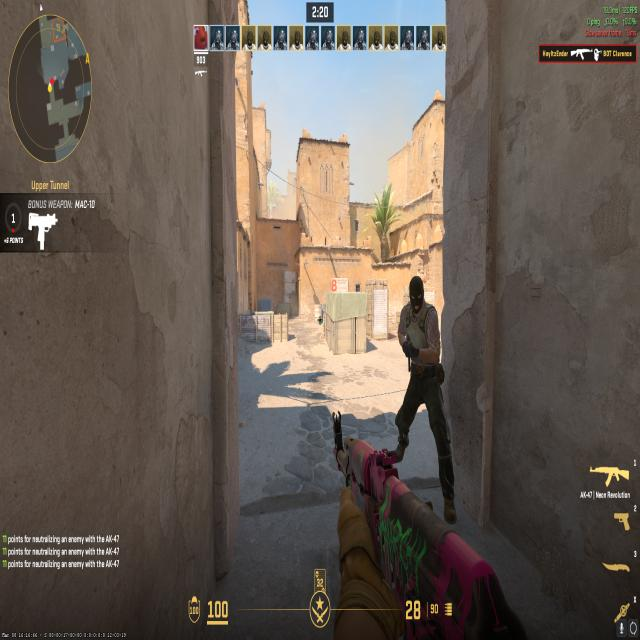t: (383, 269, 460, 487)
